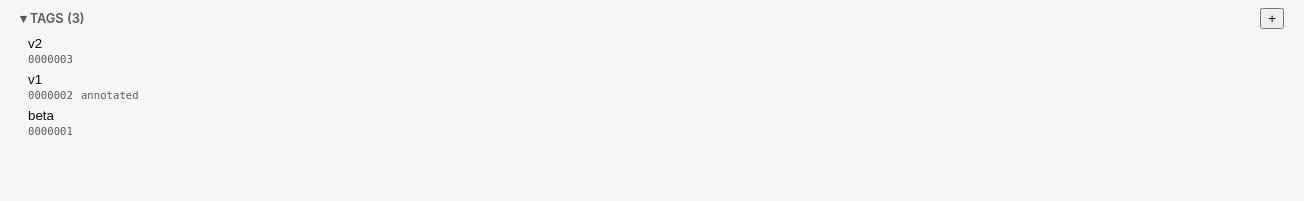
TagsPanel context menu › with no remotes shows the remote items once, disabled with No remotes configured
Expected: the list named "Tag list" is shown, [12,33,1292,149]
Right-click the button "v1 0000002 annotated": (50, 96) [12,69,1292,105]
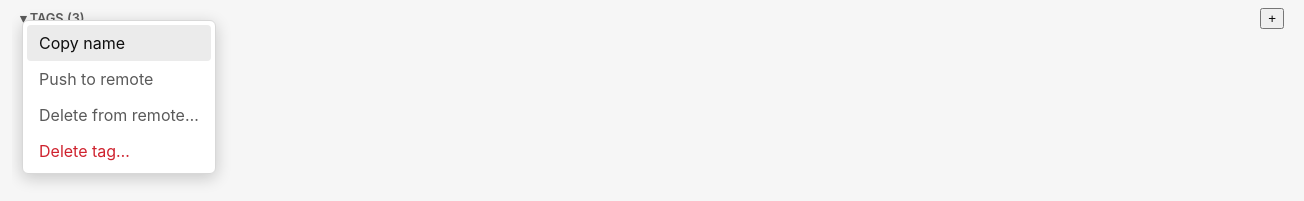
Now the menu items read "Copy name", "Push to remote", "Delete from remote…", "Delete tag…", in this order, box [27,25,211,61]; [27,61,211,97]; [27,97,211,133]; [27,133,211,169]
Now the menu item "Push to remote" is disabled, box [27,61,211,97]
Now the menu item "Delete from remote…" is disabled, box [27,97,211,133]
